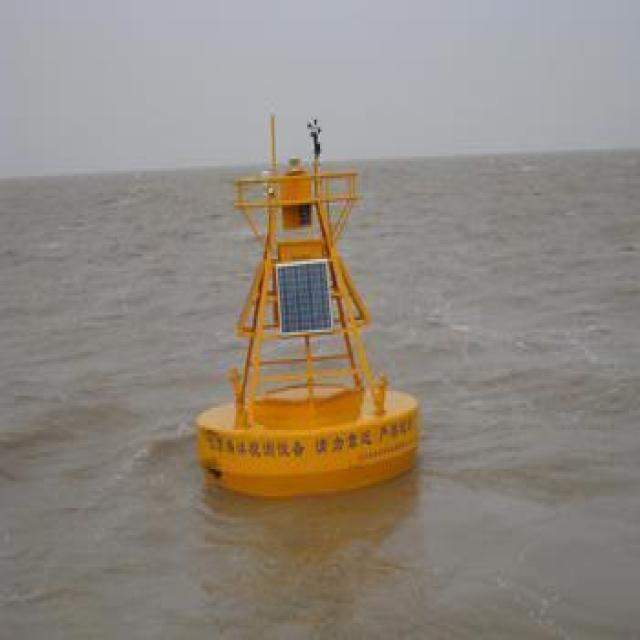buoy: (185, 108, 426, 488)
